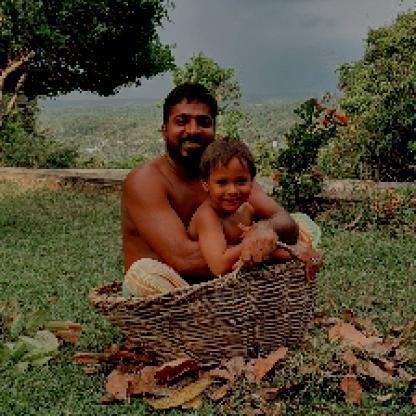child: (188, 135, 290, 278)
